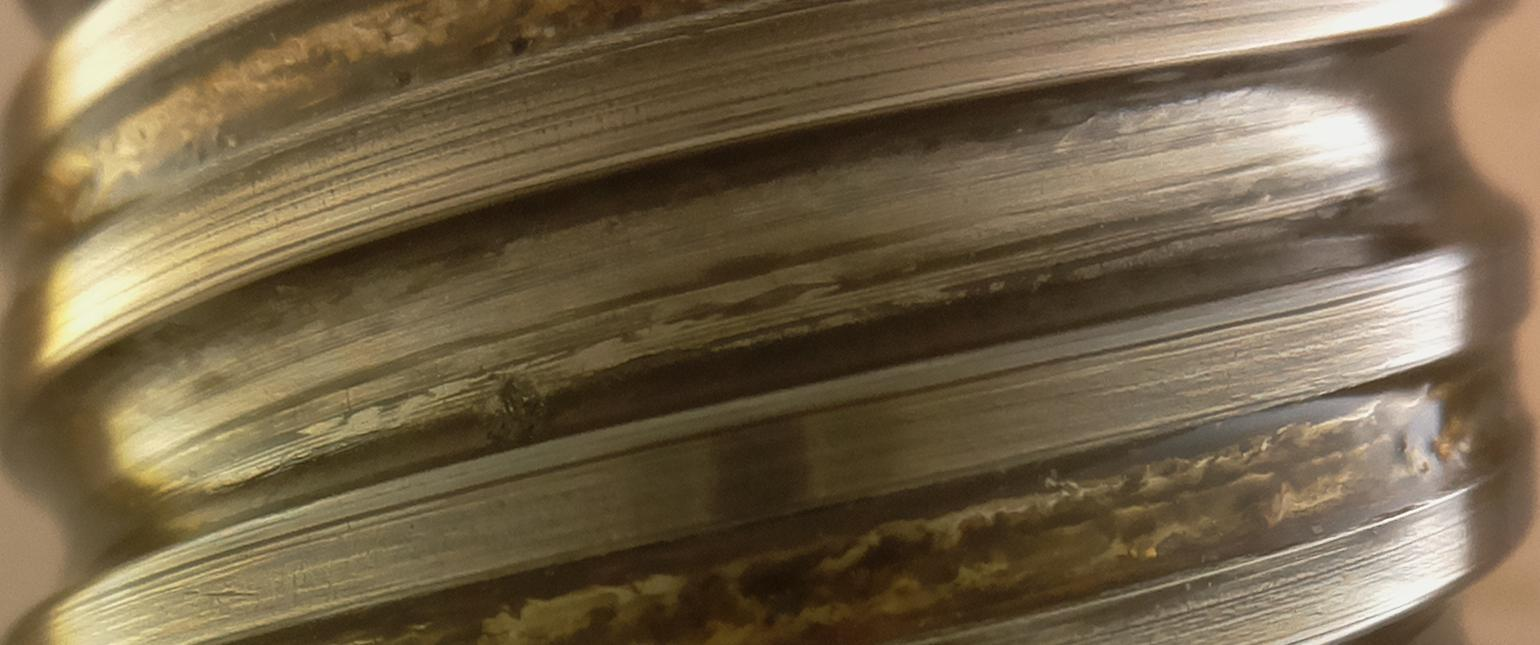pitting: (470, 377, 545, 460)
